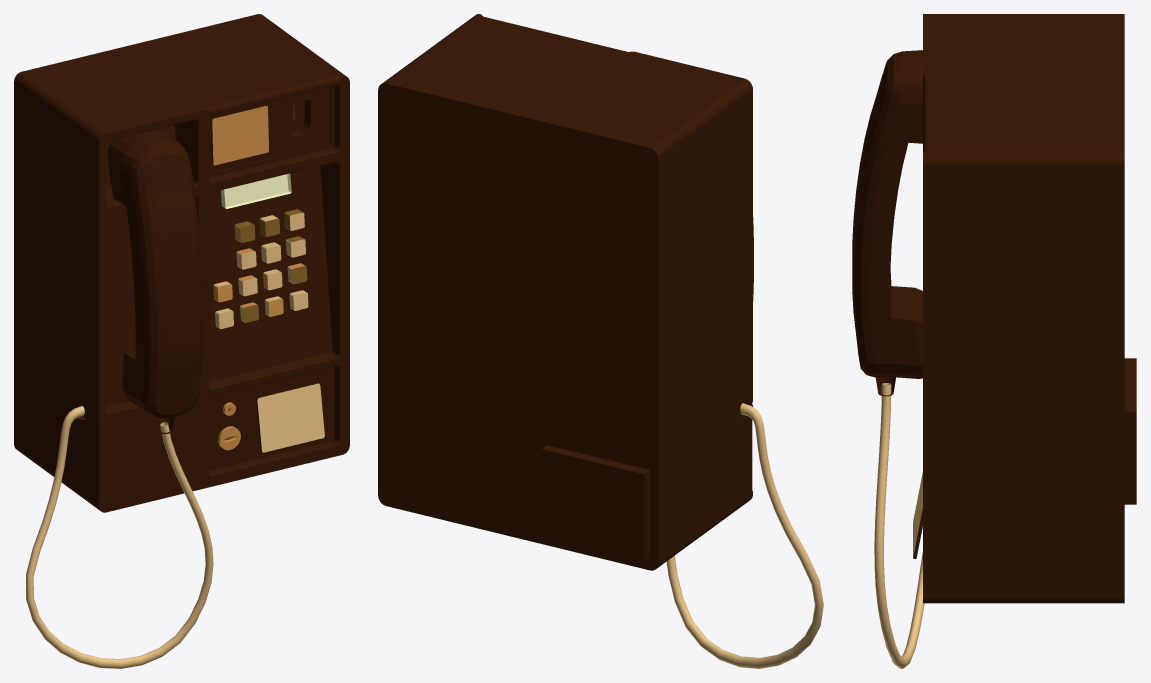
Rendered from Phone.fbx.
3 renders of one model, left to right at view 1: azimuth 30°, elevation 25°; view 2: azimuth 150°, elevation 25°; view 3: azimuth 270°, elevation 25°, orthographic. The views are drawn at different scales.
Parts seen in each view (by area): view 1: BezierCurve; view 2: BezierCurve; view 3: BezierCurve.
Part boxes in pixels (<box>): BezierCurve: <box>14,14,349,668</box>; BezierCurve: <box>378,14,823,668</box>; BezierCurve: <box>852,14,1136,668</box>.
Bounding box in the file's own units: 2.12 × 3.39 × 1.38.
